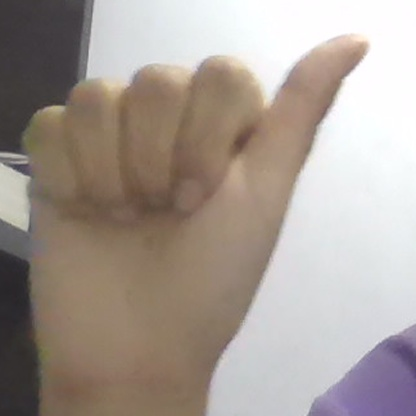A: (23, 34, 369, 390)
